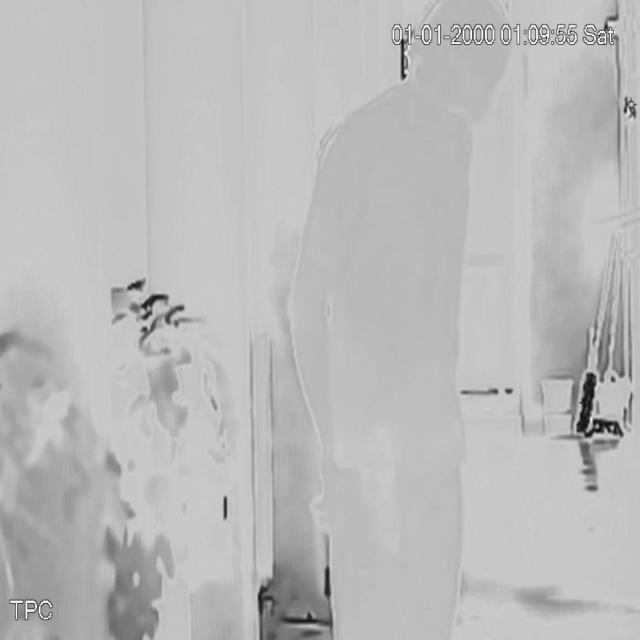Weapon: (336, 421, 417, 558)
